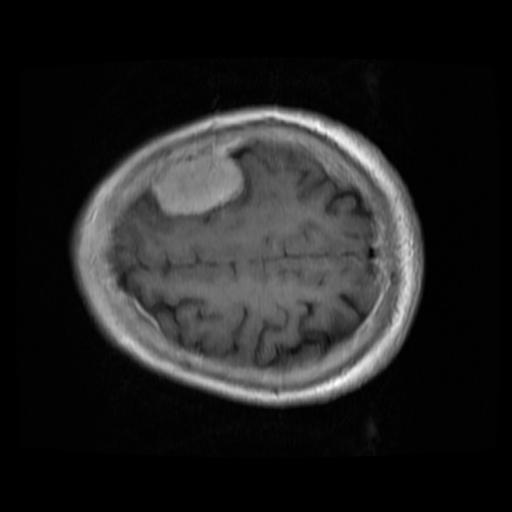meningioma: (151, 154, 244, 216)
